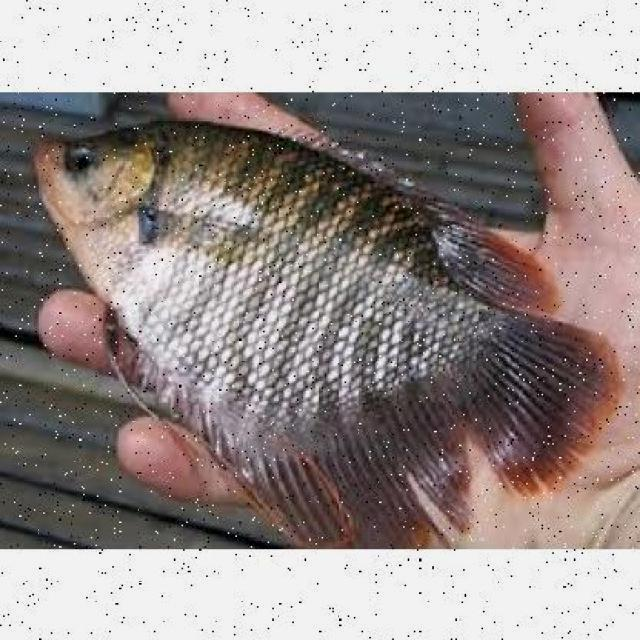gurame: (26, 106, 614, 540)
